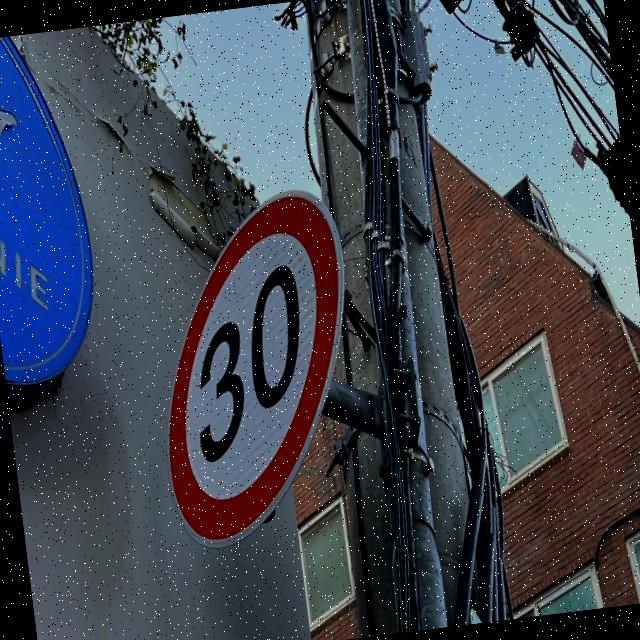Ograniczenie predkosci do 30: (136, 191, 373, 544)
